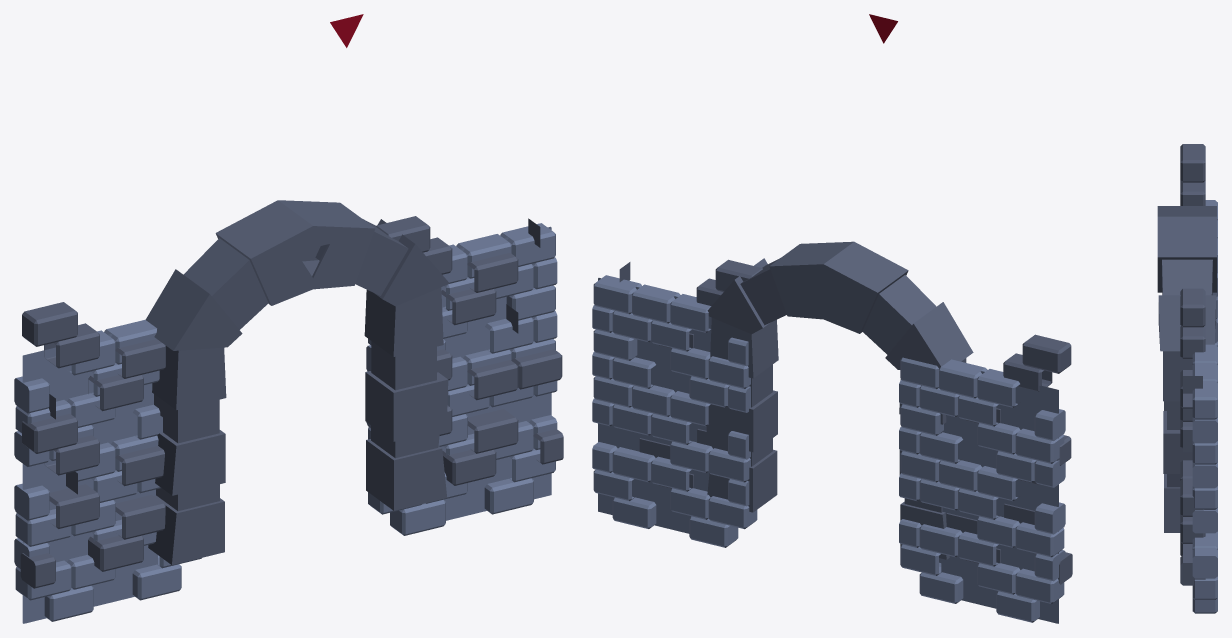
Rendered from brick-wall-without-door.glb.
3 renders of one model, left to right at view 1: azimuth 30°, elevation 25°; view 2: azimuth 150°, elevation 25°; view 3: azimuth 270°, elevation 25°, orthographic. The views are drawn at different scales.
Parts seen in each view (by area): view 1: brick wall without door; view 2: brick wall without door; view 3: brick wall without door.
Part boxes in pixels (box(x1,y1,x2,y2)): brick wall without door: box(14, 14, 563, 623); brick wall without door: box(592, 14, 1072, 623); brick wall without door: box(1157, 144, 1217, 613).
Size of the model in its own units: 2 by 2.12 by 0.4544.
